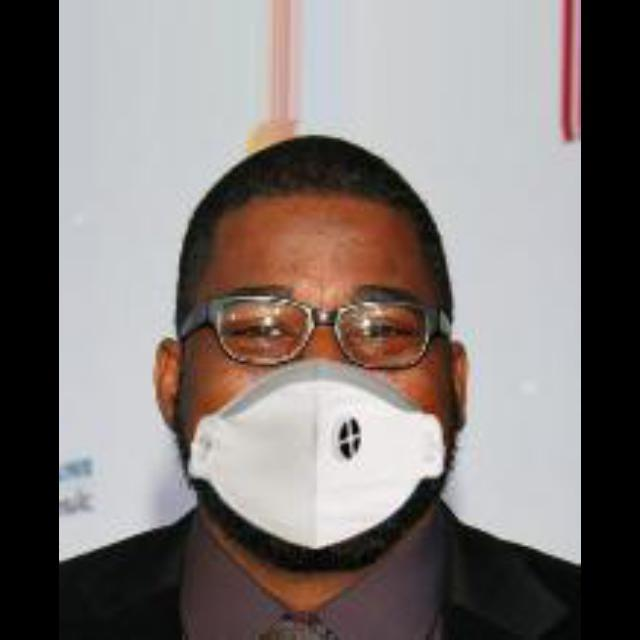suspicion: (149, 105, 515, 580)
